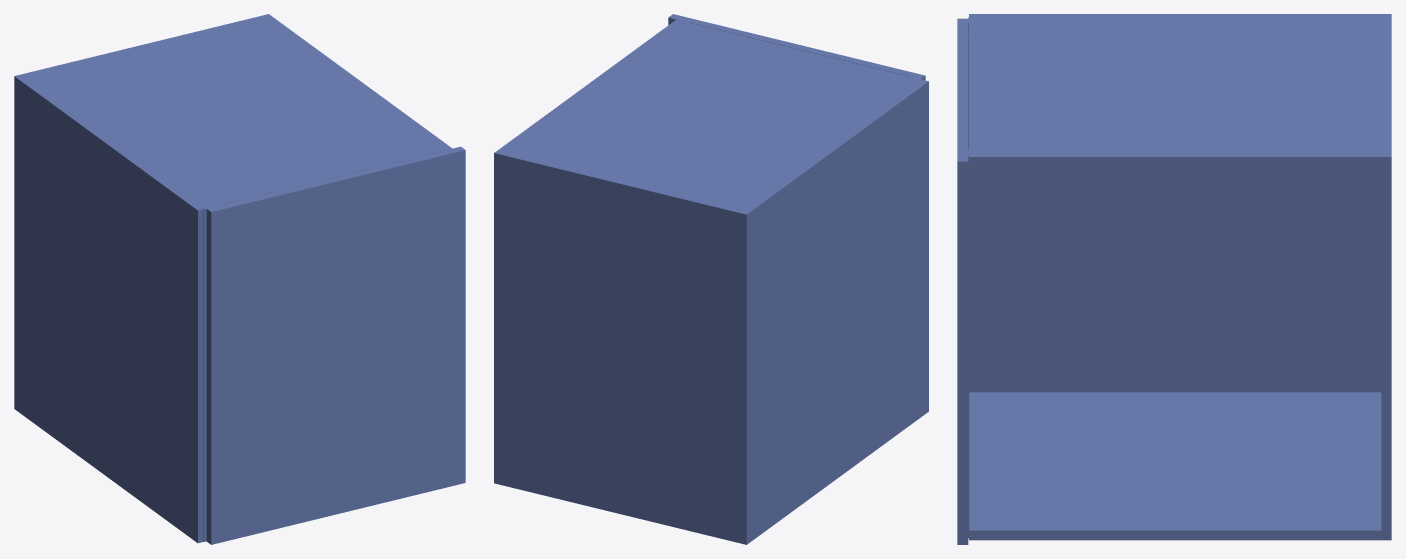
Rendered from sektion.obj.
The picture shows the model from 3 angles, left to right: view 1: azimuth 30°, elevation 25°; view 2: azimuth 150°, elevation 25°; view 3: azimuth 270°, elevation 25°; orthographic projection. The views are drawn at different scales.
Parts seen in each view (by area): view 1: sektion; view 2: sektion; view 3: sektion.
Boxes of the visible parts, <box> form: sektion: <box>14,14,465,544</box>; sektion: <box>494,14,928,544</box>; sektion: <box>957,14,1391,544</box>.
Bounding box in the file's own units: 0.6298 × 0.762 × 0.783.
